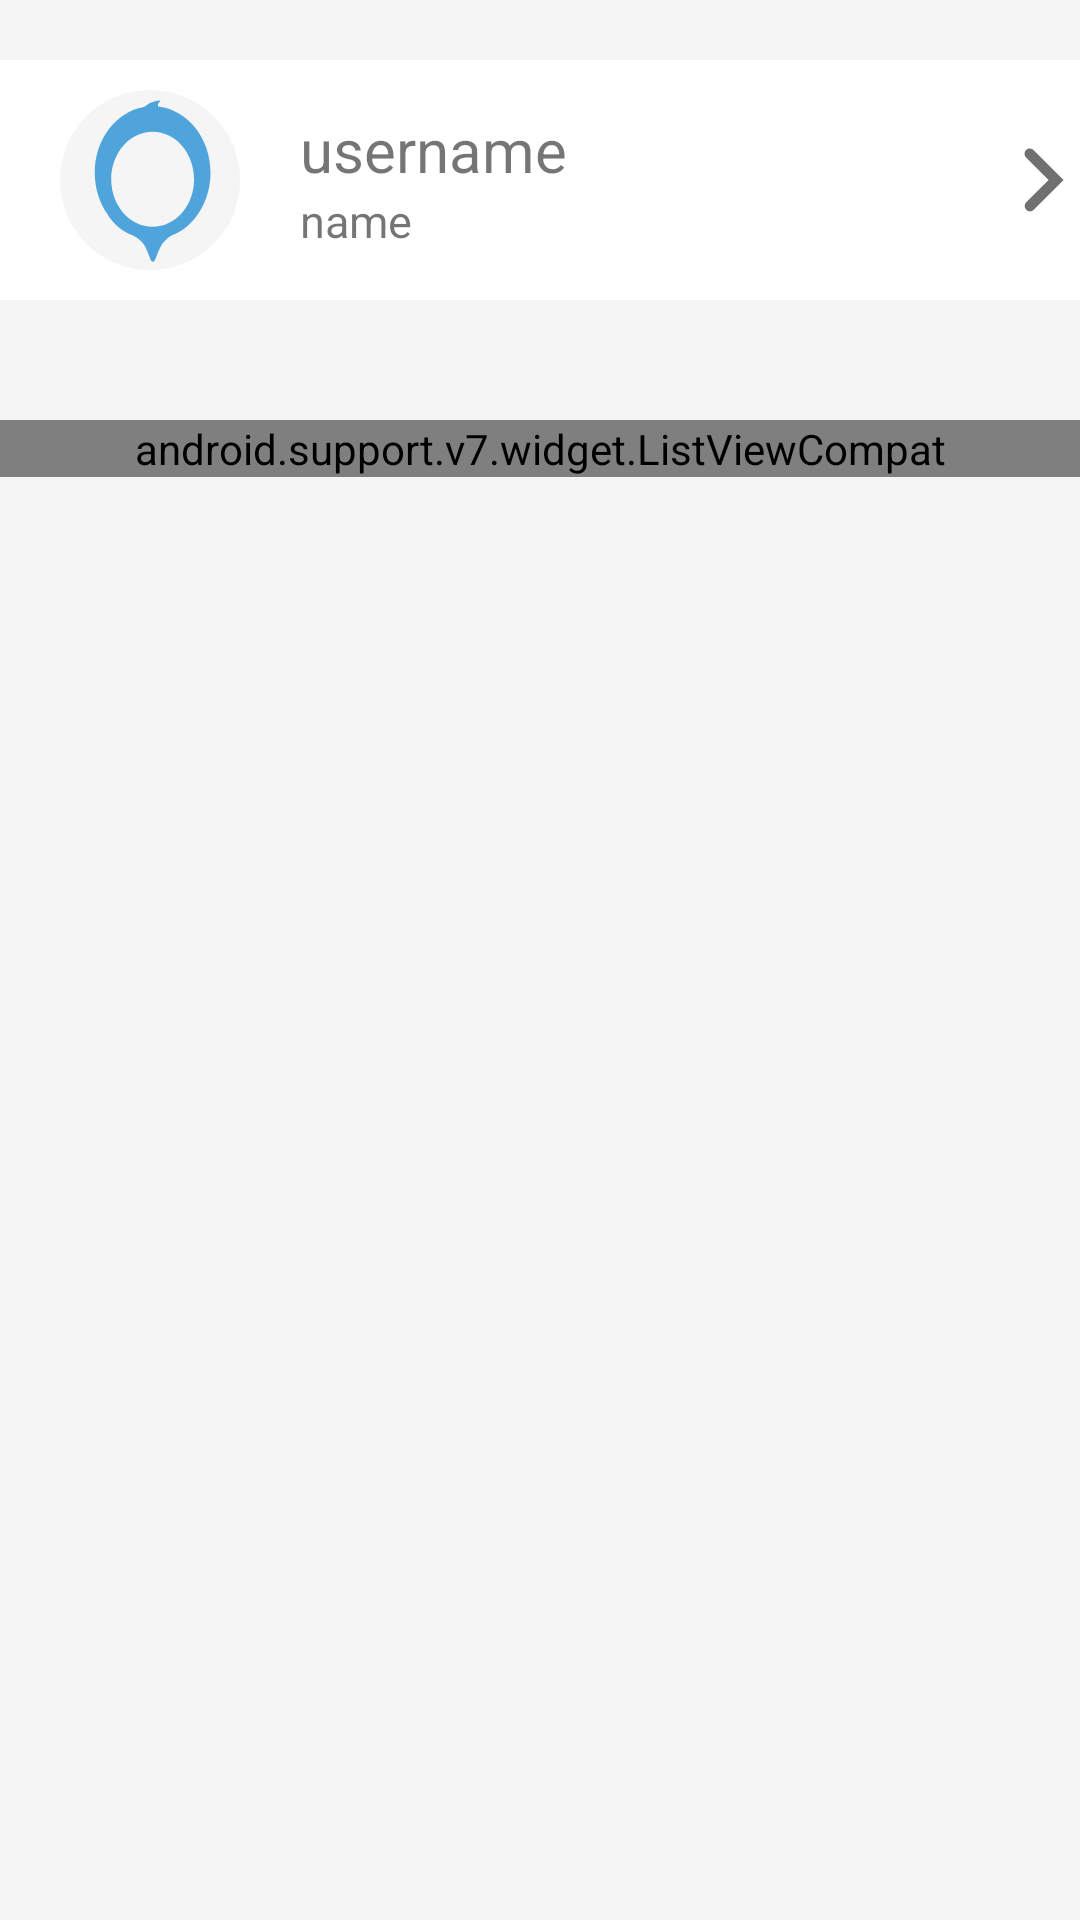

Where icons sit on this 1080px x 1920px app screen, as (x1, y1, x2, y2):
head: (60, 90, 240, 270)
right: (1024, 148, 1064, 212)
